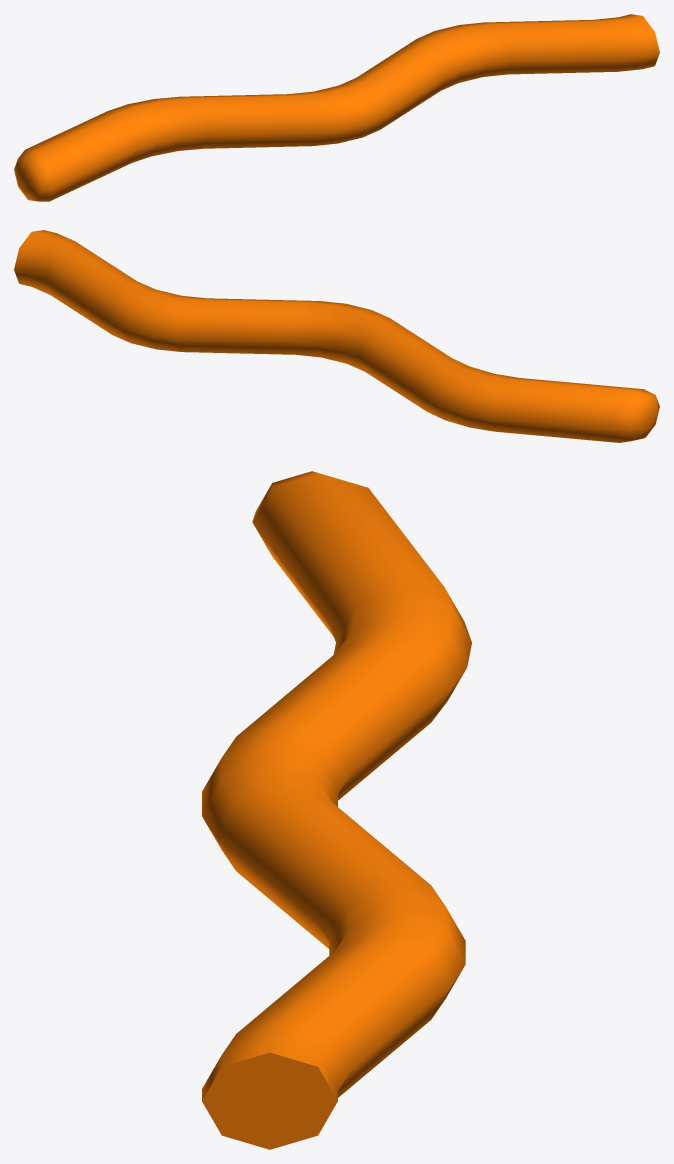
Rendered from Souse_half.002.fbx.
3 renders of one model, top to bottom at view 1: azimuth 30°, elevation 25°; view 2: azimuth 150°, elevation 25°; view 3: azimuth 270°, elevation 25°, orthographic. The views are drawn at different scales.
Parts seen in each view (by area): view 1: Souse_half.002; view 2: Souse_half.002; view 3: Souse_half.002.
Part boxes in pixels (x1,y1,x2,y2): Souse_half.002: [14, 14, 659, 201]; Souse_half.002: [14, 230, 659, 442]; Souse_half.002: [202, 471, 471, 1149].
Size of the model in its own units: 76.28 by 14.66 by 5.82.
